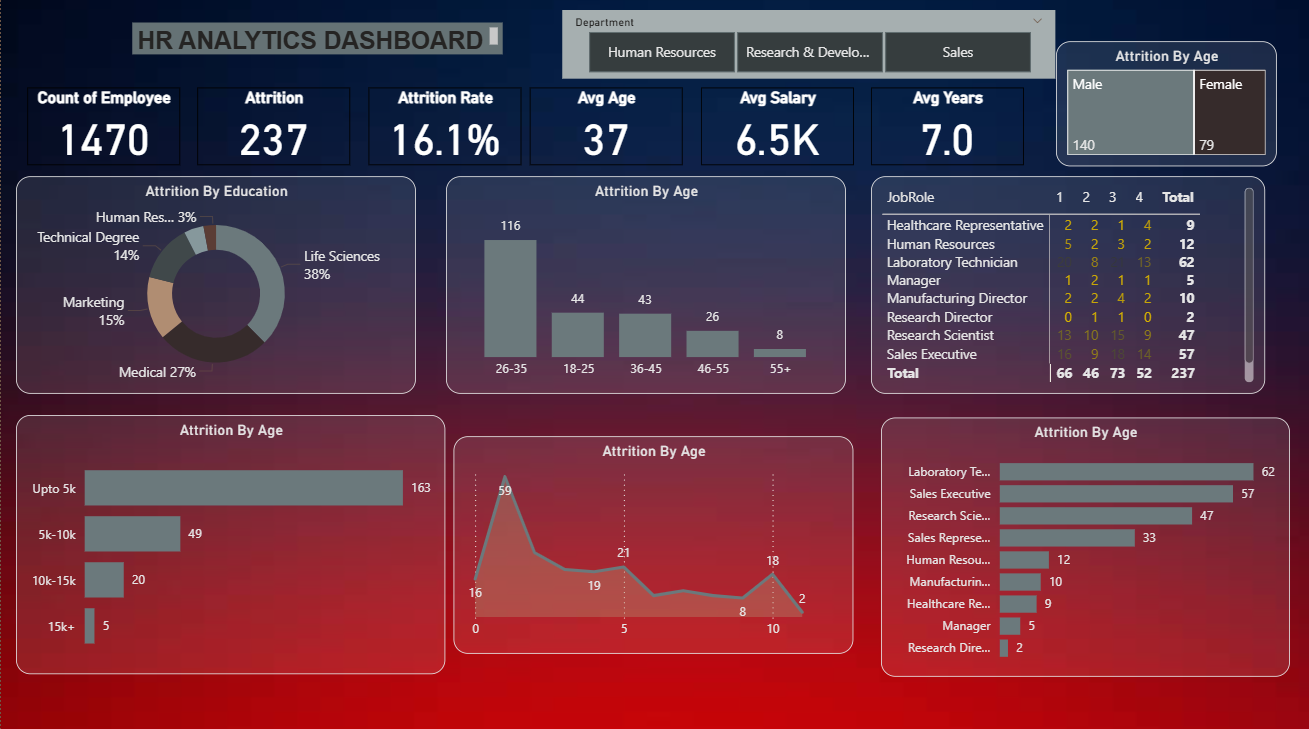

The page's visual inventory and layout, read from the dashboard file:
{"tool":"powerbi","page":{"name":"Page 1","canvas":[1280,720],"ordinal":0},"visuals":[{"type":"card","title":"Count of Employee","fields":{"Values":["CountNonNull(HR_Analytics.EmpID)"]},"box":[25.8,91,149.3,76],"z":0},{"type":"card","title":"Attrition","fields":{"Values":["Sum(HR_Analytics.AttritionCount)"]},"box":[191.4,91,149.3,76],"z":1000},{"type":"card","title":"Attrition Rate","fields":{"Values":["HR_Analytics.AttritionRate"]},"box":[359.8,91,149.3,76],"z":2000},{"type":"card","title":"Avg Age","fields":{"Values":["Avg(HR_Analytics.Age)"]},"box":[517.3,91,149.3,76],"z":3000},{"type":"card","title":"Avg Salary","fields":{"Values":["Avg(HR_Analytics.MonthlyIncome)"]},"box":[684.3,91,149.3,76],"z":4000},{"type":"card","title":"Avg Years","fields":{"Values":["Avg(HR_Analytics.YearsAtCompany)"]},"box":[851.3,91,149.3,76],"z":5000},{"type":"donutChart","title":"Attrition By Education","fields":{"Category":["HR_Analytics.EducationField"],"Y":["Sum(HR_Analytics.AttritionCount)"]},"box":[15.1,177,391.1,212.7],"z":6000},{"type":"columnChart","title":"Attrition By Age","fields":{"Category":["HR_Analytics.AgeGroup"],"Y":["Sum(HR_Analytics.AttritionCount)"]},"box":[435,177,391.1,212.7],"z":7000},{"type":"pivotTable","fields":{"Rows":["HR_Analytics.JobRole"],"Columns":["HR_Analytics.JobSatisfaction"],"Values":["Sum(HR_Analytics.AttritionCount)"]},"box":[850.8,177,385.6,212.7],"z":8000},{"type":"barChart","title":"Attrition By Age","fields":{"Category":["HR_Analytics.SalarySlab"],"Y":["Sum(HR_Analytics.AttritionCount)"]},"box":[15.1,410.3,419.9,253.9],"z":9000},{"type":"barChart","title":"Attrition By Age","fields":{"Category":["HR_Analytics.JobRole"],"Y":["Sum(HR_Analytics.AttritionCount)"]},"box":[860.3,413.3,399.7,253.9],"z":10000},{"type":"areaChart","title":"Attrition By Age","fields":{"Category":["HR_Analytics.YearsAtCompany"],"Y":["Sum(HR_Analytics.AttritionCount)"]},"box":[443.2,432.2,391.1,212.7],"z":11000},{"type":"treemap","title":"Attrition By Age","fields":{"Group":["HR_Analytics.Gender"],"Values":["Sum(HR_Analytics.AttritionCount)"]},"box":[1031.8,44.8,215.9,122.2],"z":12000},{"type":"slicer","fields":{"Values":["HR_Analytics.Department"]},"box":[548.8,15,482.5,67.5],"z":13000},{"type":"textbox","box":[129,27.2,362.5,31.2],"z":14000}]}

Visuals, with their boxes in screenshot pixels (x1, y1, x2, y2), scaled from the page's 1280x720 canvas onto the 1309x729 screenshot:
"Count of Employee" card: box=[26, 92, 179, 169]
"Attrition" card: box=[196, 92, 348, 169]
"Attrition Rate" card: box=[368, 92, 521, 169]
"Avg Age" card: box=[529, 92, 682, 169]
"Avg Salary" card: box=[700, 92, 852, 169]
"Avg Years" card: box=[871, 92, 1023, 169]
"Attrition By Education" donutChart: box=[15, 179, 415, 395]
"Attrition By Age" columnChart: box=[445, 179, 845, 395]
pivotTable - HR_Analytics.JobRole x HR_Analytics.JobSatisfaction: box=[870, 179, 1264, 395]
"Attrition By Age" barChart: box=[15, 415, 445, 673]
"Attrition By Age" barChart: box=[880, 418, 1289, 676]
"Attrition By Age" areaChart: box=[453, 438, 853, 653]
"Attrition By Age" treemap: box=[1055, 45, 1276, 169]
slicer - HR_Analytics.Department: box=[561, 15, 1055, 84]
textbox: box=[132, 28, 503, 59]
